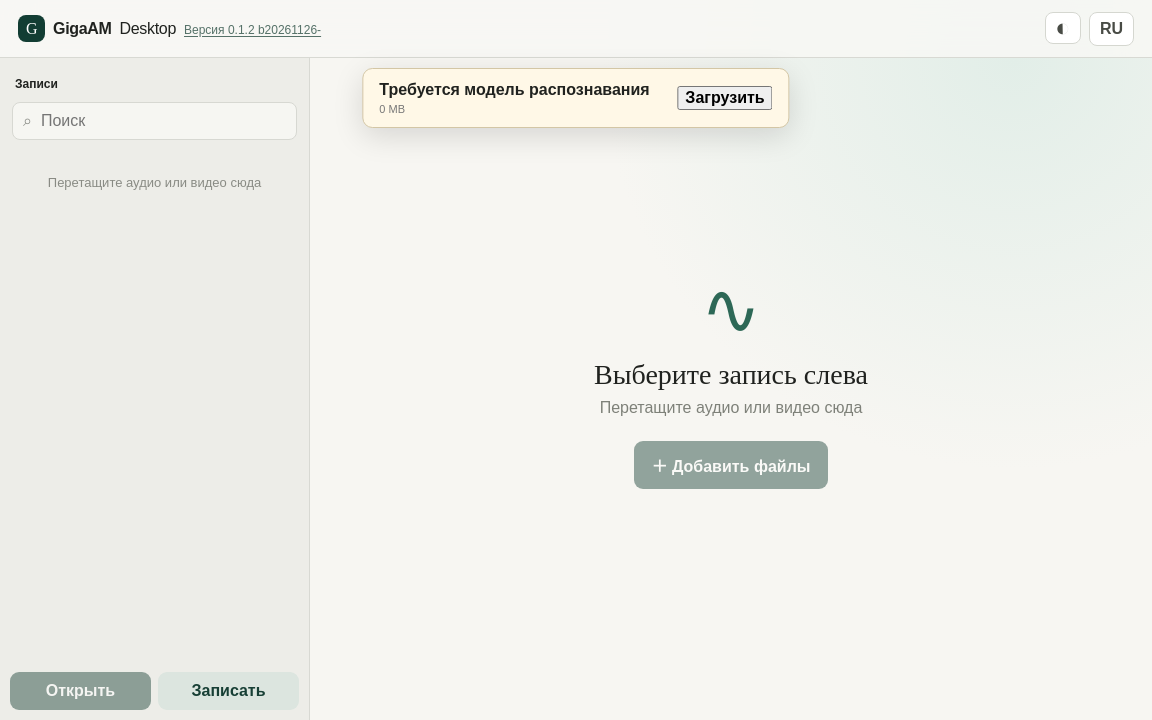
Scenario: GigaAM page › switches the visible UI language
The width and height of the screenshot is (1152, 720).
Check: the text "Записи" is shown, box left=15, top=77, right=58, bottom=91
Click the button "RU".
click(1111, 28)  # box left=1089, top=12, right=1134, bottom=46
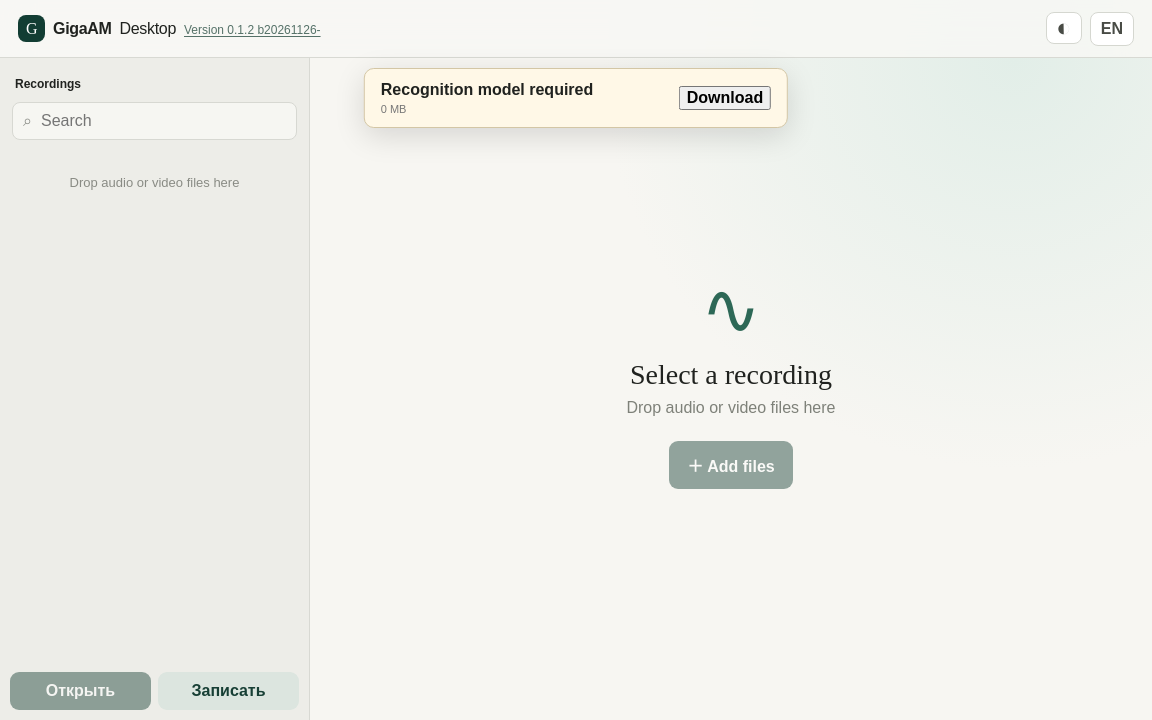
Check: the text "Recordings" is shown, box left=15, top=77, right=81, bottom=91
Check: the field with placeholder "Search" is shown, box left=39, top=111, right=286, bottom=131
